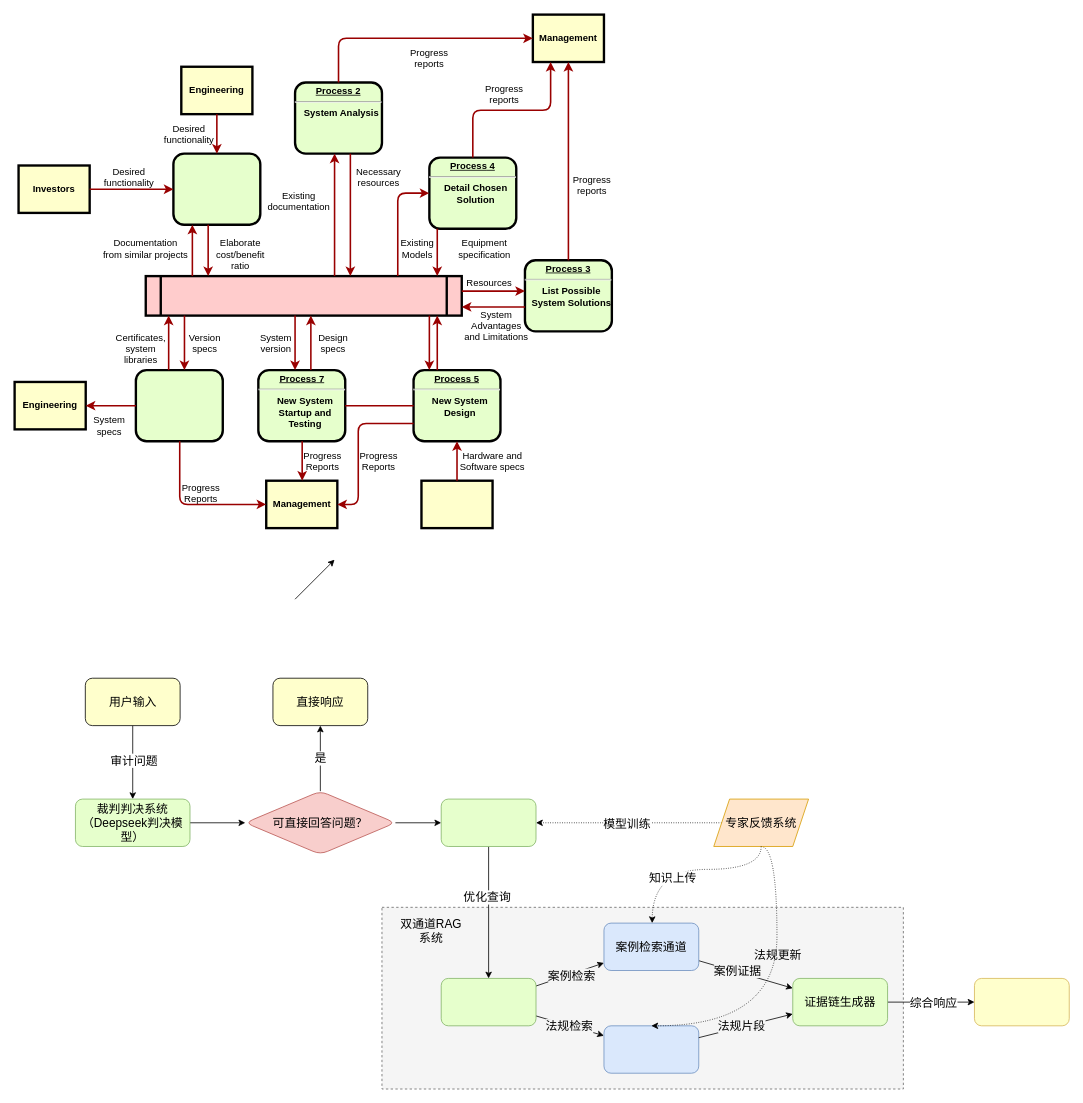
Image size: 1083x1103. Some labels were removed from this diagram. The shapes that lost their labels are listed below. From the top down, each one's box as (x1, y1, x2, y2) in pixels, then its label:
(172, 152, 261, 226): Process 1 System Study Preparation
(144, 275, 463, 316): ON-DEMAND SYSTEM DEVELOPMENT
(134, 369, 224, 442): Process 6 New System Construction
(420, 479, 493, 529): Vendors
(440, 798, 536, 846): AuditWen 垂直领域模型
(440, 978, 536, 1026): 检索优化输出
(974, 978, 1069, 1026): 最终响应输出
(603, 1025, 699, 1073): 法规检索通道
